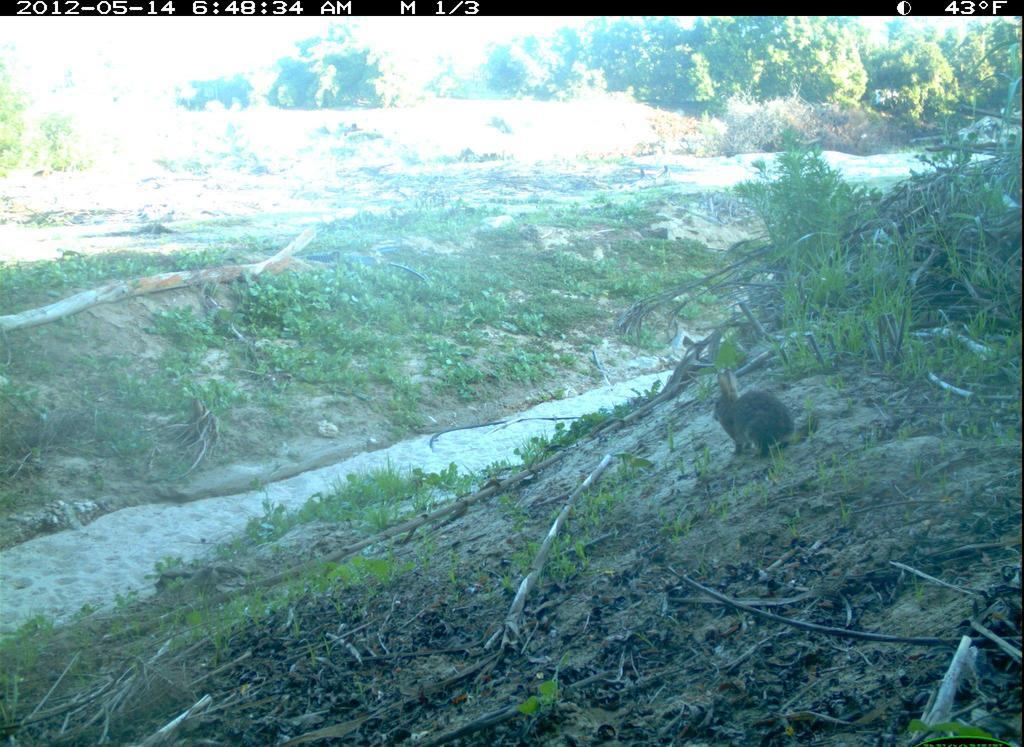rabbit: (705, 365, 826, 459)
